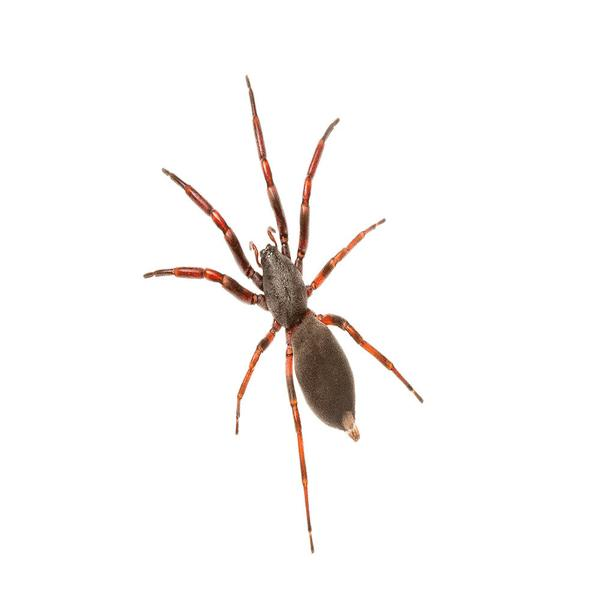White-Tailed Spider: (161, 91, 422, 536)
